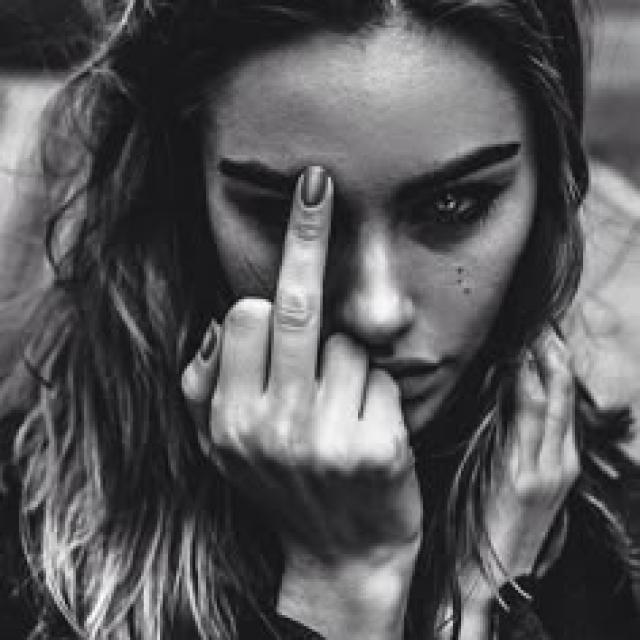7_mano_rostro: (217, 168, 423, 640)
